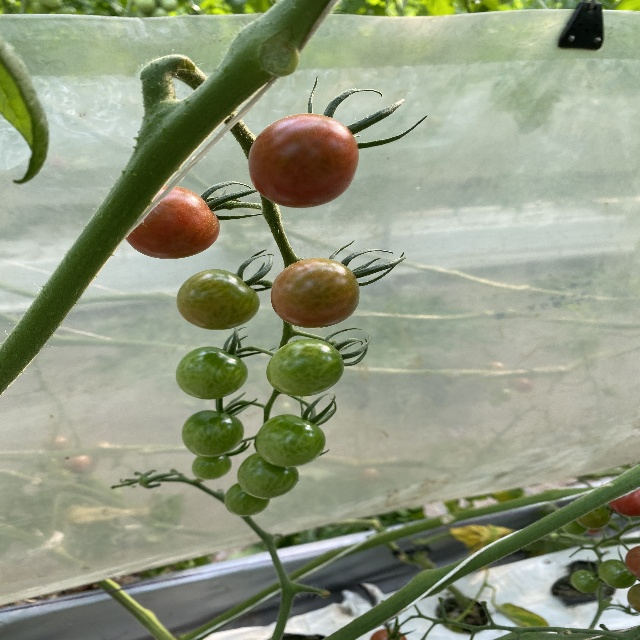l_fully_ripened: (247, 114, 358, 208), (126, 187, 220, 260)
l_green: (176, 269, 261, 330), (267, 339, 345, 398), (175, 346, 248, 401), (255, 415, 326, 467), (181, 410, 244, 457), (238, 452, 299, 497), (225, 484, 270, 516), (192, 453, 231, 479)
l_half_ripened: (270, 257, 359, 328)
